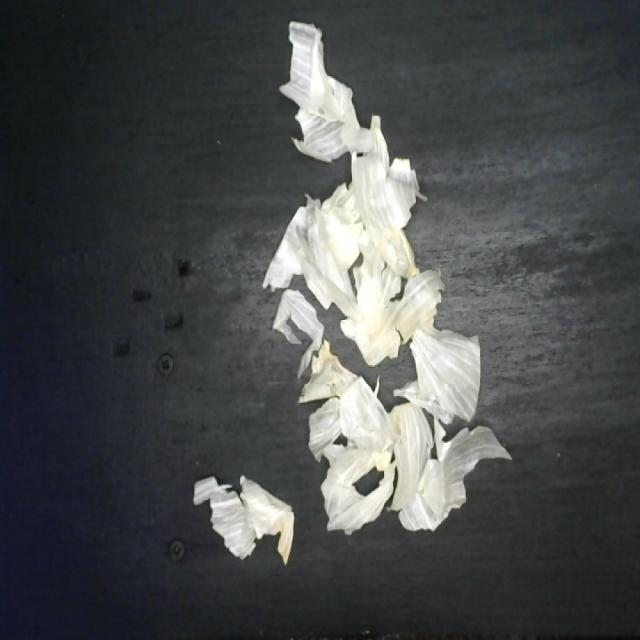biodegradable: (182, 7, 520, 553)
